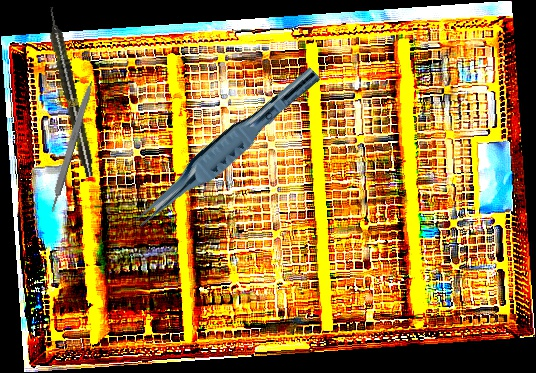Handpiece: (43, 5, 98, 179)
Scalpel Handle: (46, 79, 95, 214)
Tissue Forceps: (129, 55, 322, 240)
